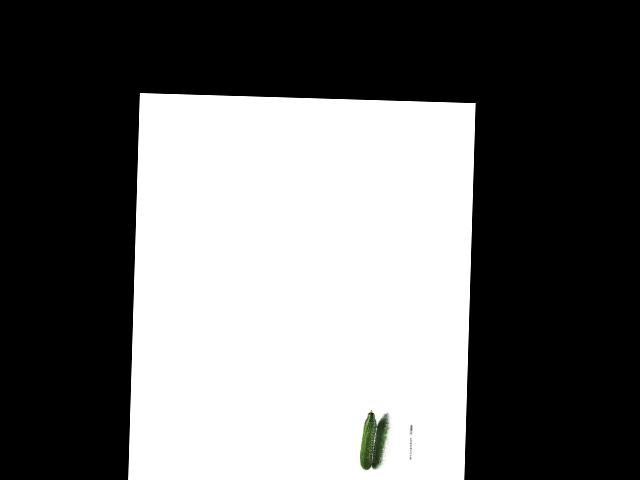cucumber: (359, 409, 377, 469)
